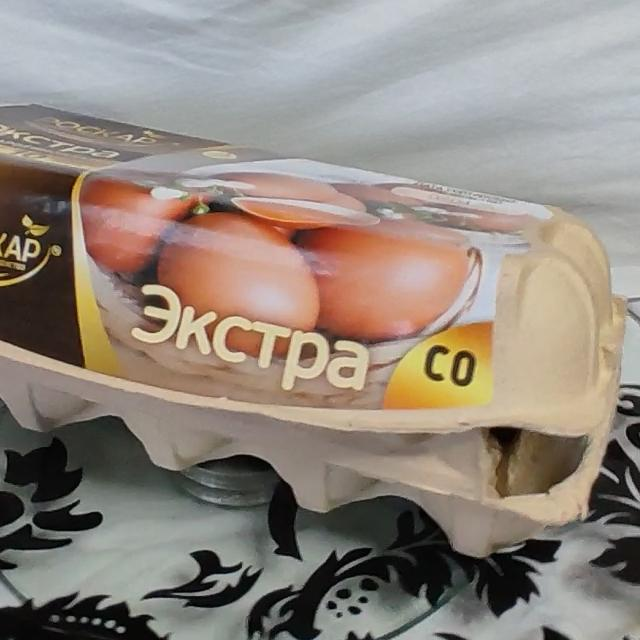egg: (0, 106, 629, 571)
